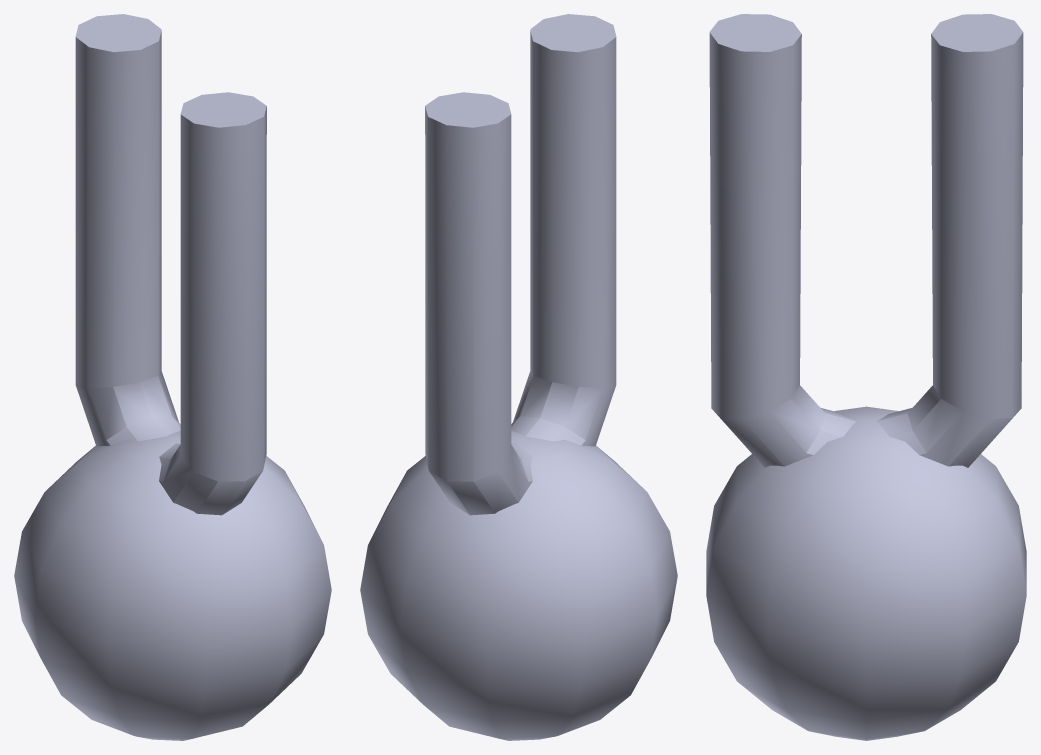
The model's file is liptid-node.gltf.
The picture shows the model from 3 angles, left to right: view 1: azimuth 30°, elevation 25°; view 2: azimuth 150°, elevation 25°; view 3: azimuth 270°, elevation 25°; orthographic projection. The views are drawn at different scales.
Visible parts, largest first — view 1: 000_Merged_Objects_1; view 2: 000_Merged_Objects_1; view 3: 000_Merged_Objects_1.
Boxes of the visible parts, x1,y1,x2,y2 form: 000_Merged_Objects_1: (14, 14, 331, 740); 000_Merged_Objects_1: (360, 14, 677, 740); 000_Merged_Objects_1: (706, 14, 1026, 740).
Size of the model in its own units: 100 by 227 by 95.11.
